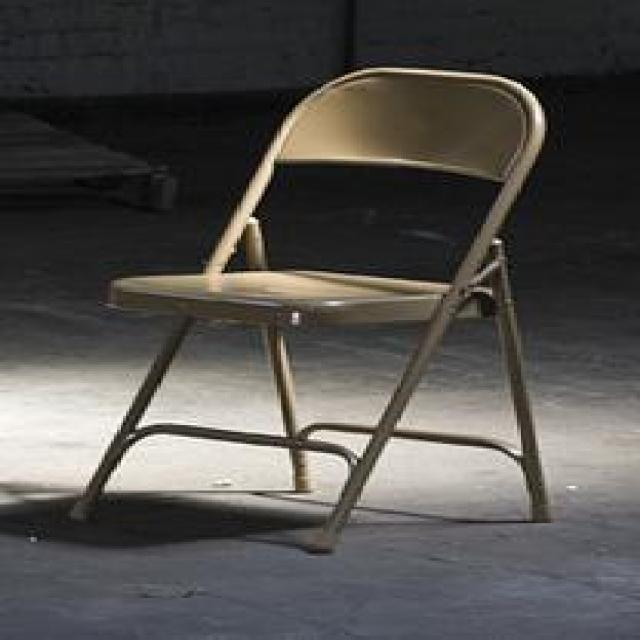chair: (64, 66, 554, 554)
